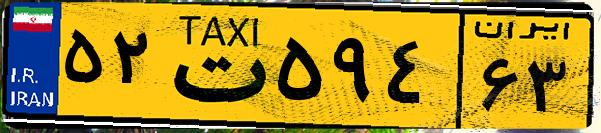2: (110, 28, 158, 98)
3: (525, 38, 570, 115)
4: (385, 28, 445, 110)
5: (270, 28, 330, 110), (57, 26, 110, 100)
6: (475, 38, 525, 113)
9: (330, 28, 385, 110)
ت: (158, 12, 270, 120)
